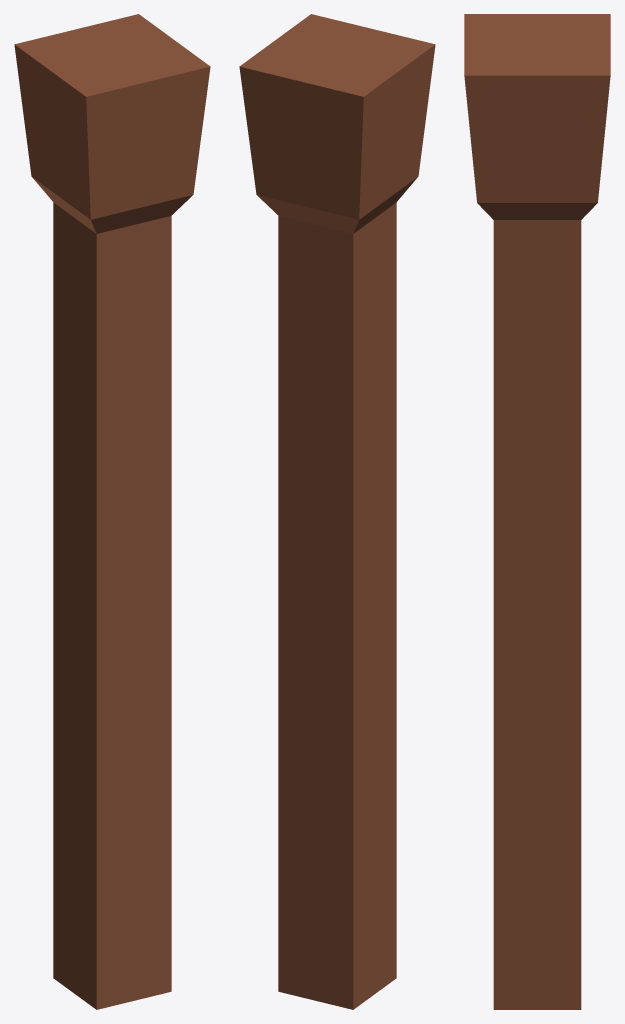
Rendered from light_handle.fbx.
The picture shows the model from 3 angles, left to right: view 1: azimuth 30°, elevation 25°; view 2: azimuth 150°, elevation 25°; view 3: azimuth 270°, elevation 25°; orthographic projection.
Parts seen in each view (by area): view 1: Cube.005; view 2: Cube.005; view 3: Cube.005.
Part boxes in pixels (<box>): Cube.005: <box>14,14,210,1009</box>; Cube.005: <box>239,14,435,1009</box>; Cube.005: <box>464,14,610,1009</box>.
Size of the model in its own units: 6.43 by 45.89 by 6.43.
